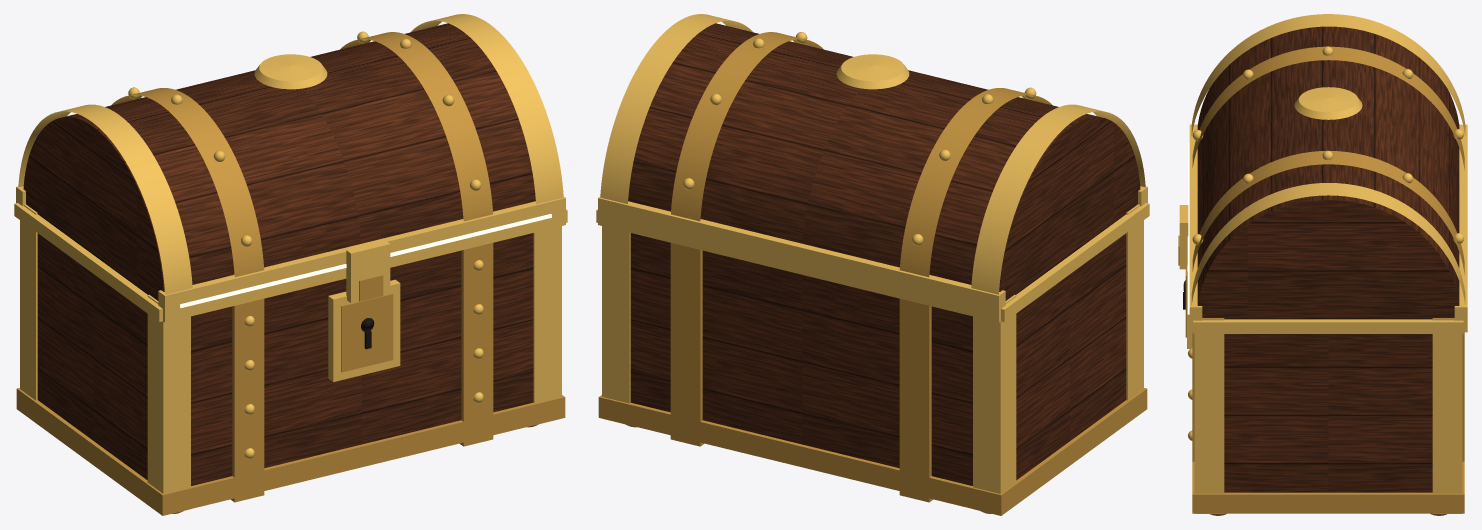
Rendered from treasure-chest.glb.
3 renders of one model, left to right at view 1: azimuth 30°, elevation 25°; view 2: azimuth 150°, elevation 25°; view 3: azimuth 270°, elevation 25°, orthographic. The views are drawn at different scales.
Visible parts, largest first — view 1: body, lid; view 2: body, lid; view 3: lid, body.
Boxes of the visible parts, x1,y1,x2,y2 form: body: [14, 201, 567, 515]; lid: [16, 14, 565, 310]; body: [596, 201, 1149, 515]; lid: [598, 14, 1147, 310]; lid: [1178, 14, 1467, 320]; body: [1183, 265, 1467, 515].
Size of the model in its own units: 1.03 by 0.87 by 0.68.
Materials: 12 (1 with a texture image).
